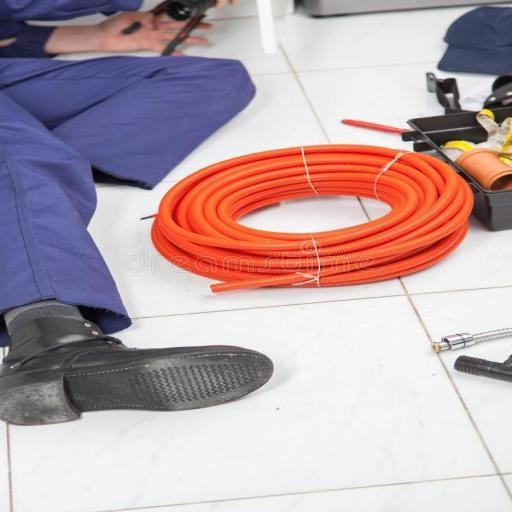safety_boots: (0, 312, 278, 437)
